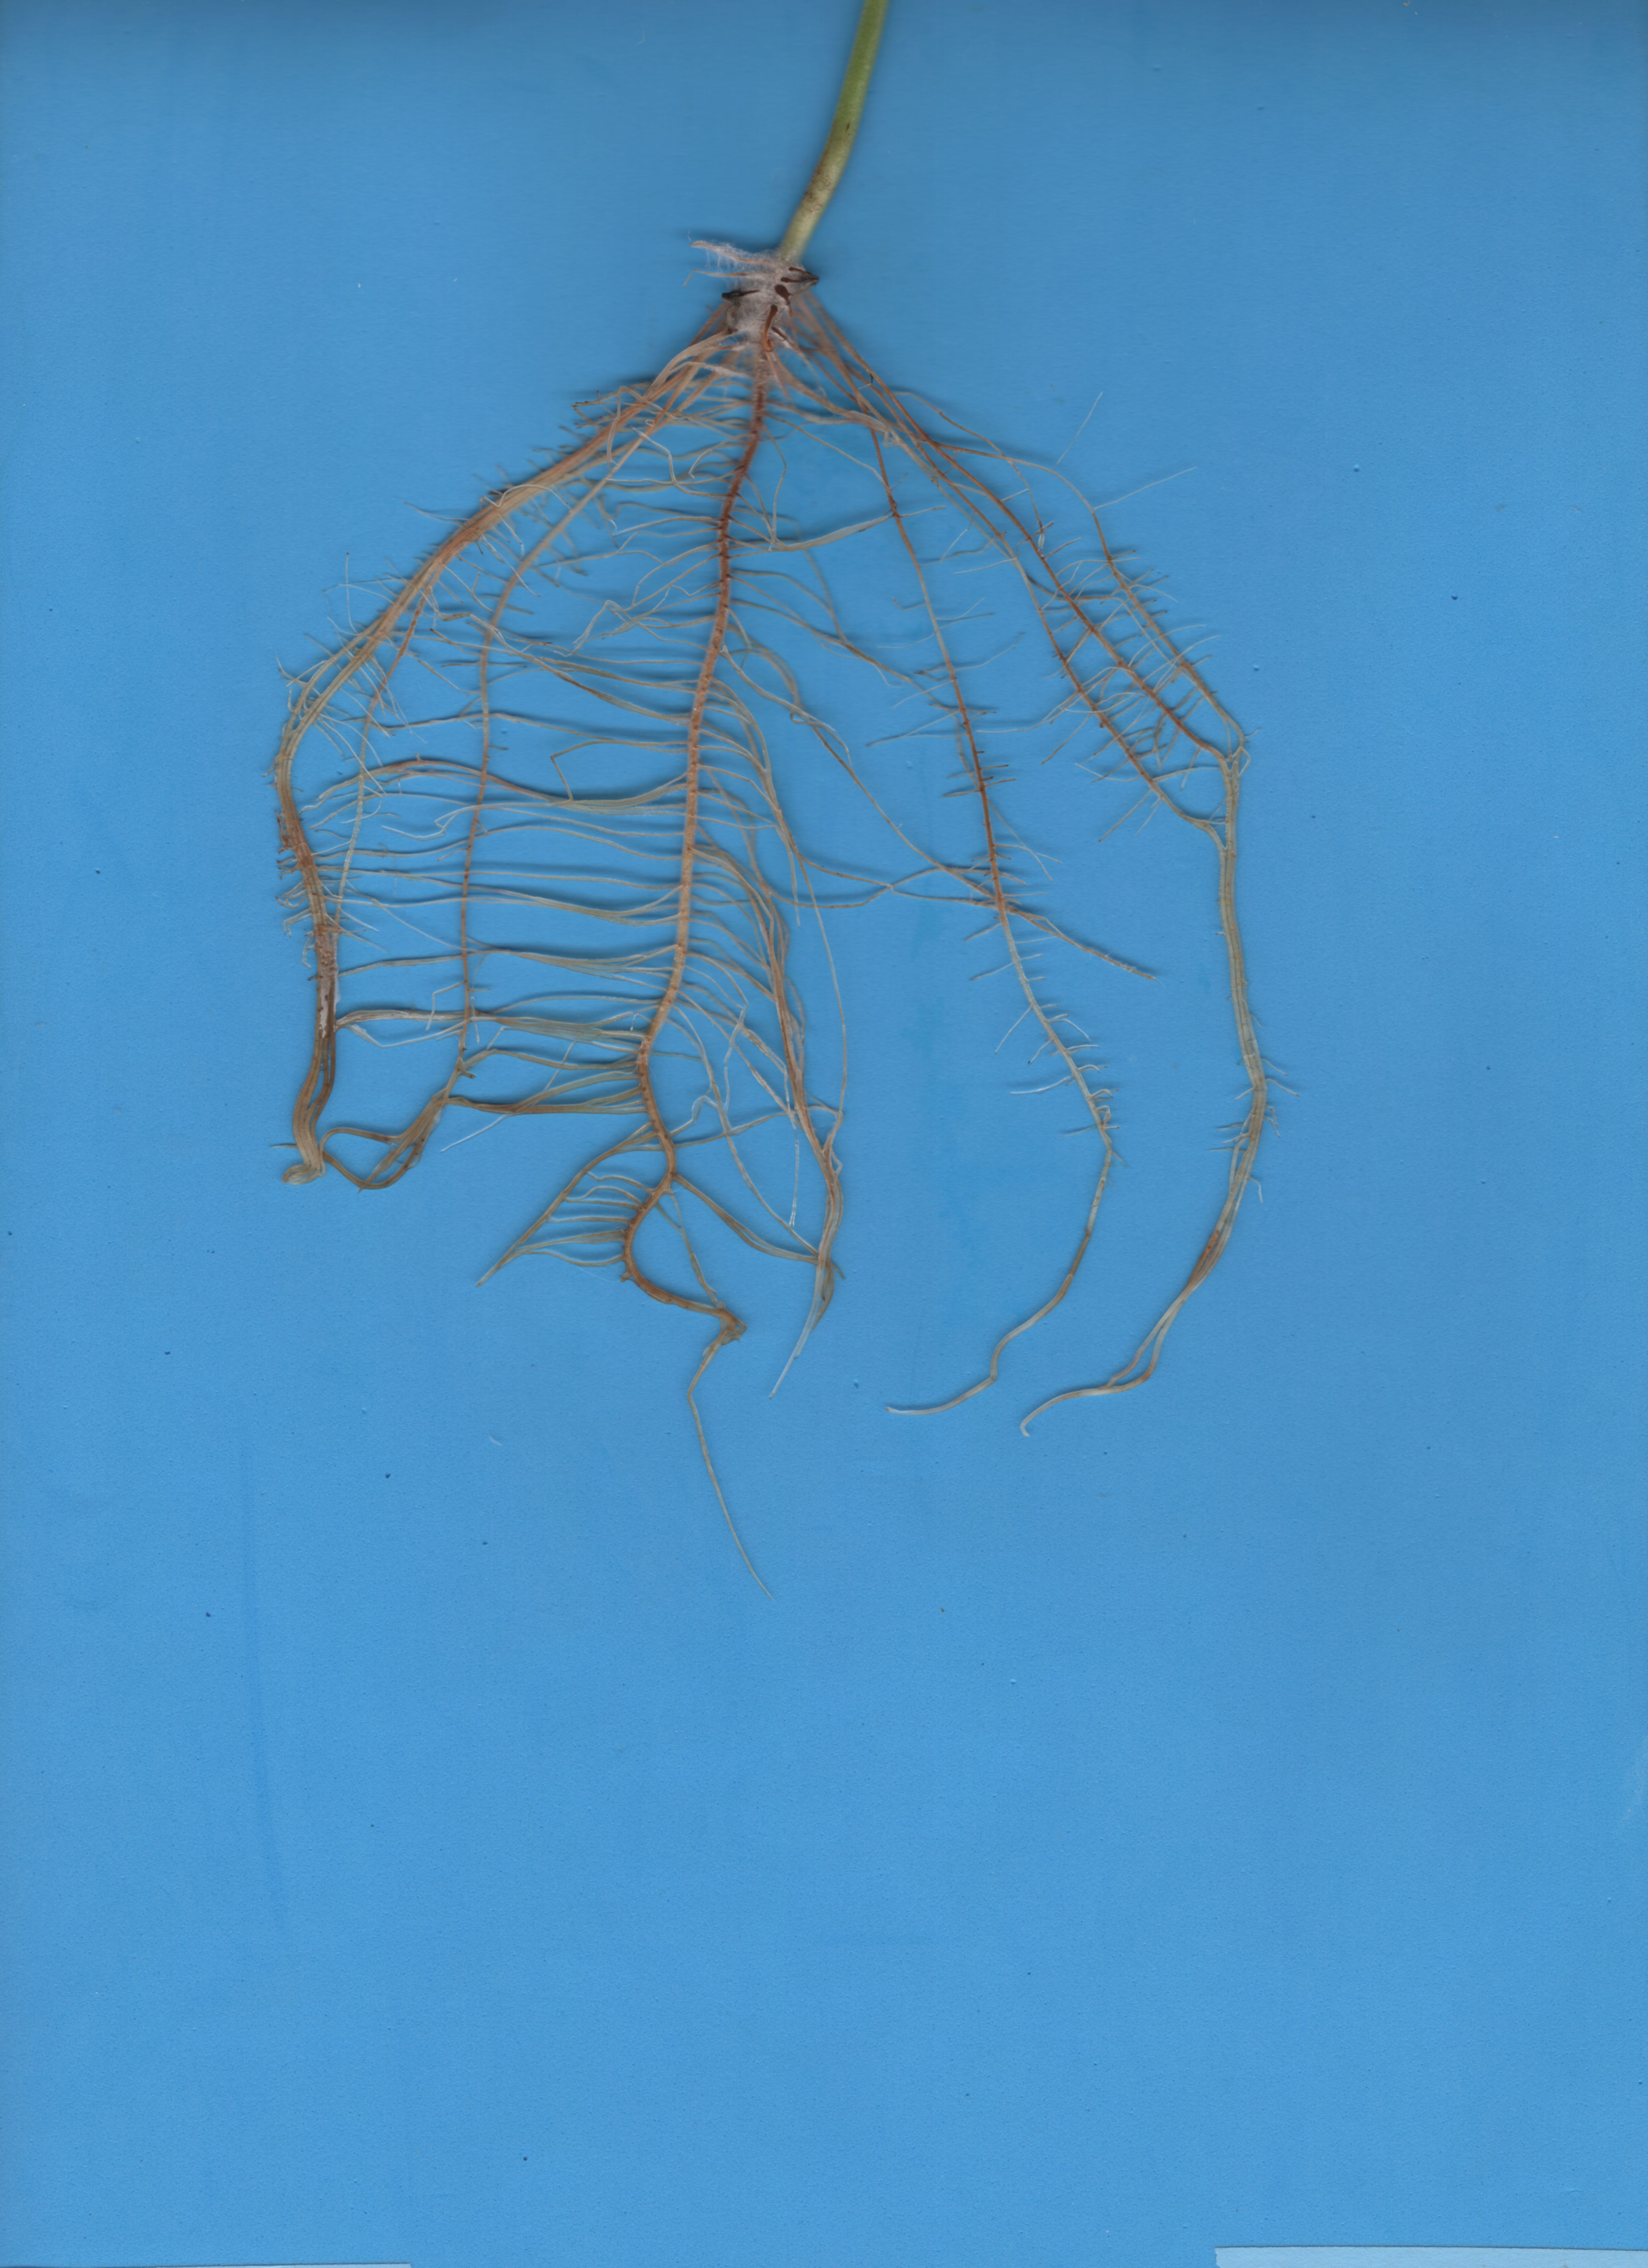CROWNGOOD: (727, 16, 898, 296)
ROOTDISEASE: (185, 239, 1534, 1513)
